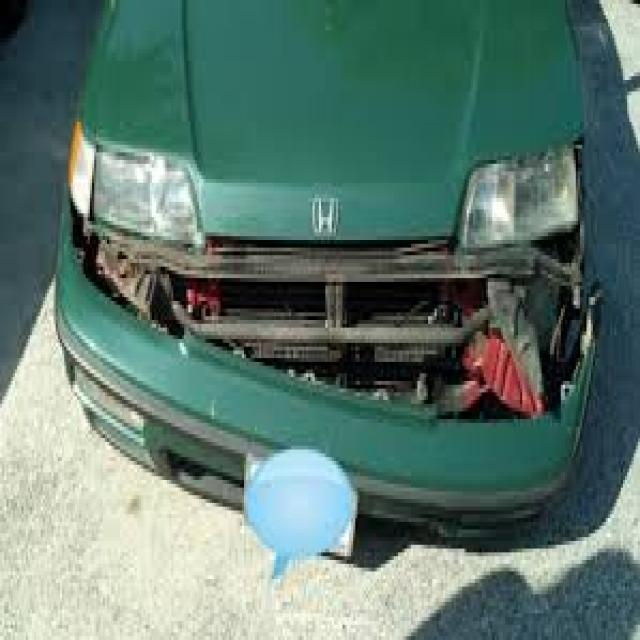moderate: (73, 163, 635, 458)
